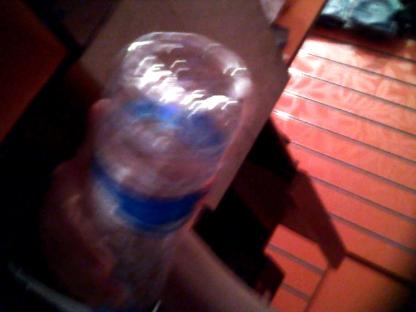Plastic Bottle: (31, 33, 251, 312)
